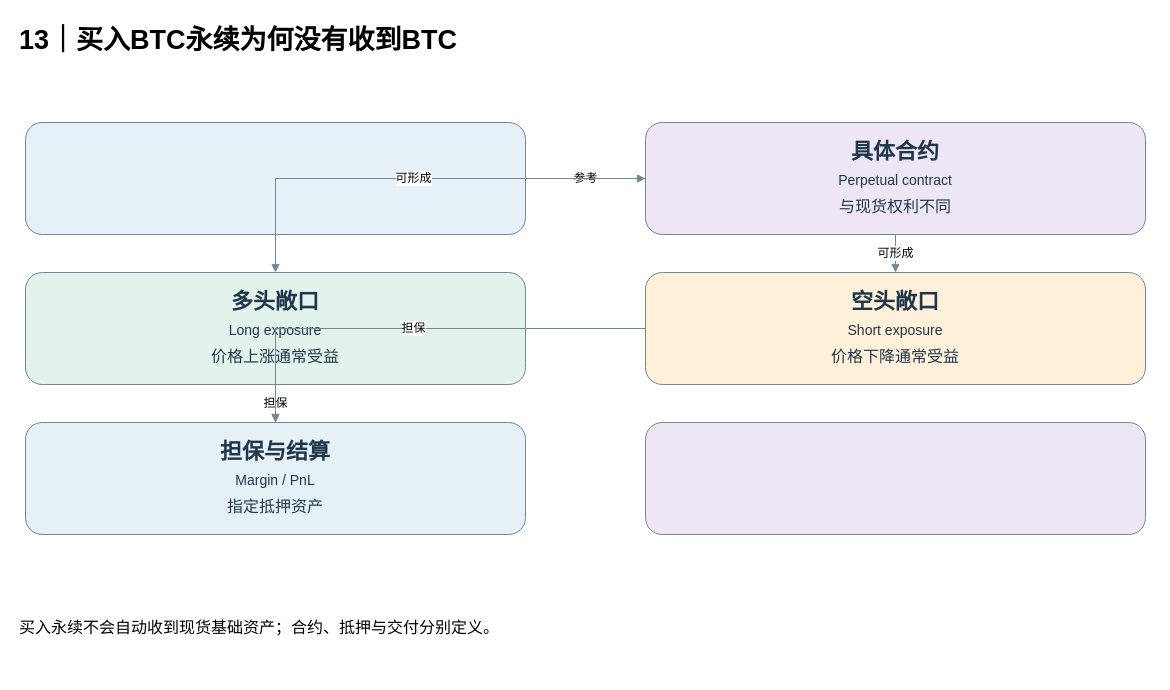
This 1170x690 diagram has some shape labels left out. Each missing label, with the box of its shape:
基础资产价格 Underlying reference BTC价格指数: (24, 122, 526, 234)
持仓成本 Funding / Fees 独立现金流: (644, 422, 1146, 534)
